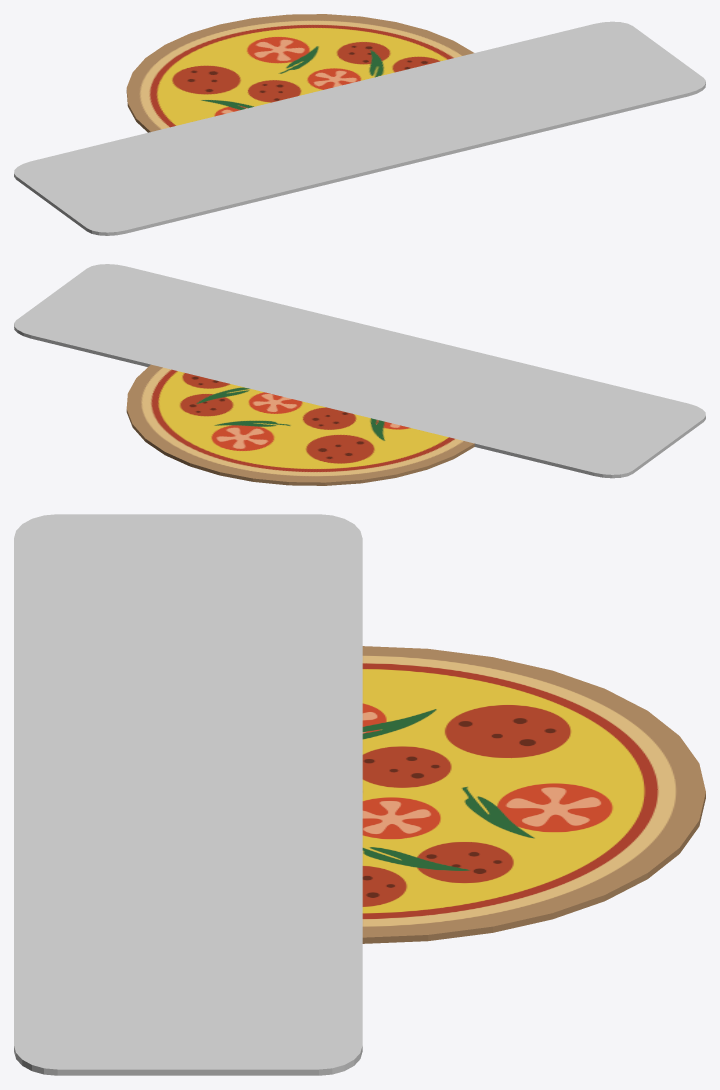
File: pizza_sign.gltf
3 views of the same model, one above another, from view 1: azimuth 30°, elevation 25°; view 2: azimuth 150°, elevation 25°; view 3: azimuth 270°, elevation 25° (orthographic). The views are drawn at different scales.
Visible parts, largest first — view 1: PizzaSign, Pizza; view 2: PizzaSign, Pizza; view 3: PizzaSign, Pizza.
Boxes of the visible parts, bbox=[...] form: PizzaSign: bbox=[14, 21, 705, 235]; Pizza: bbox=[126, 14, 473, 132]; PizzaSign: bbox=[14, 264, 705, 478]; Pizza: bbox=[126, 364, 474, 485]; PizzaSign: bbox=[14, 514, 362, 1075]; Pizza: bbox=[362, 646, 705, 943].
Size of the model in its own units: 3.81 by 0.02 by 2.
2 materials, 1 textured.
